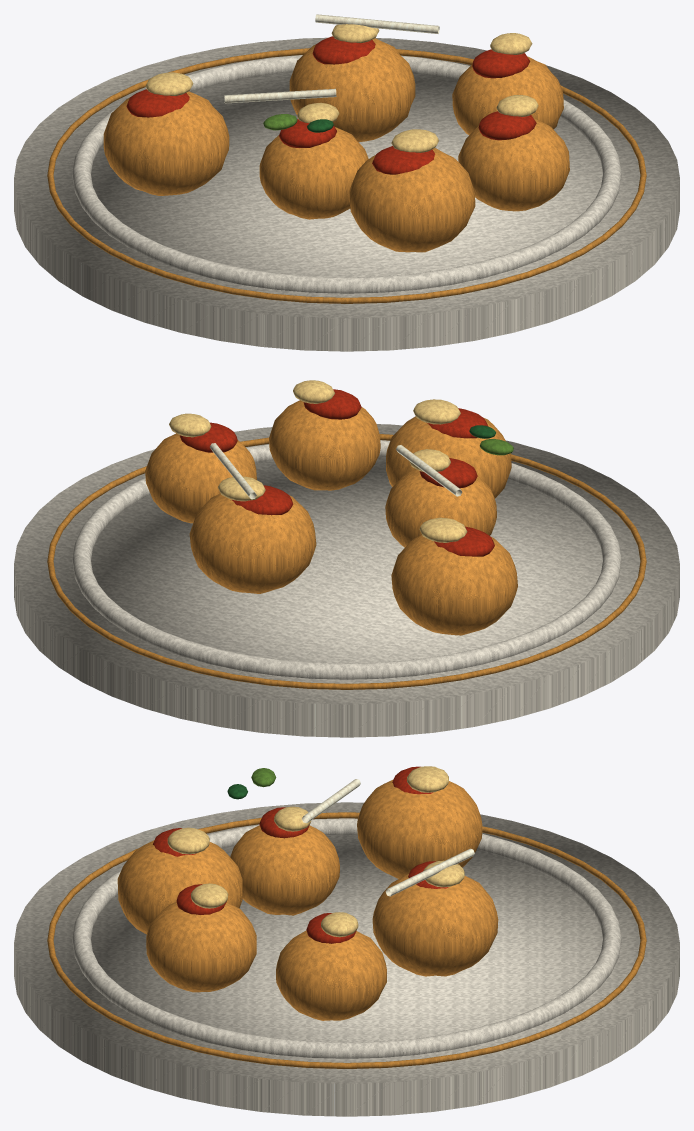
The model's file is papas-chorreadas.glb.
The picture shows the model from 3 angles, top to bottom: view 1: azimuth 30°, elevation 25°; view 2: azimuth 150°, elevation 25°; view 3: azimuth 270°, elevation 25°; orthographic projection.
Parts seen in each view (by area): view 1: porcelain, potato, gold, hogao, cheeseCoast, mozzarella; view 2: porcelain, potato, gold, hogao, cheeseCoast, mozzarella; view 3: porcelain, potato, gold, cheeseCoast, hogao, mozzarella.
Boxes of the visible parts, bbox=[...] form: porcelain: bbox=[14, 37, 679, 351]; potato: bbox=[103, 38, 569, 252]; gold: bbox=[47, 48, 646, 303]; hogao: bbox=[126, 36, 536, 174]; cheeseCoast: bbox=[145, 24, 538, 152]; mozzarella: bbox=[224, 14, 439, 103]; porcelain: bbox=[14, 424, 679, 737]; potato: bbox=[145, 400, 517, 635]; gold: bbox=[47, 434, 646, 689]; hogao: bbox=[179, 389, 494, 556]; cheeseCoast: bbox=[169, 380, 467, 542]; mozzarella: bbox=[210, 443, 462, 499]; porcelain: bbox=[14, 802, 679, 1116]; potato: bbox=[117, 780, 498, 1020]; gold: bbox=[47, 812, 646, 1068]; cheeseCoast: bbox=[167, 766, 464, 937]; hogao: bbox=[153, 766, 448, 943]; mozzarella: bbox=[302, 779, 474, 896].
Bounding box in the file's own units: 0.64 × 0.1606 × 0.64.
Materials: 8 (8 with a texture image).
